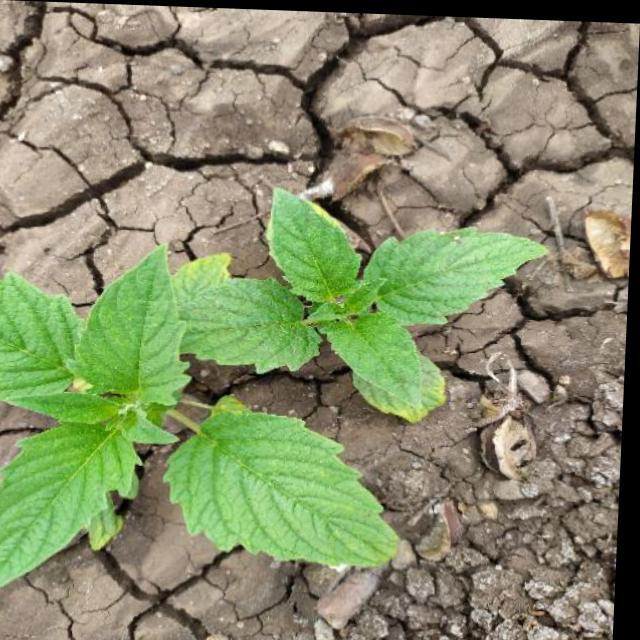crop: (0, 169, 522, 628)
